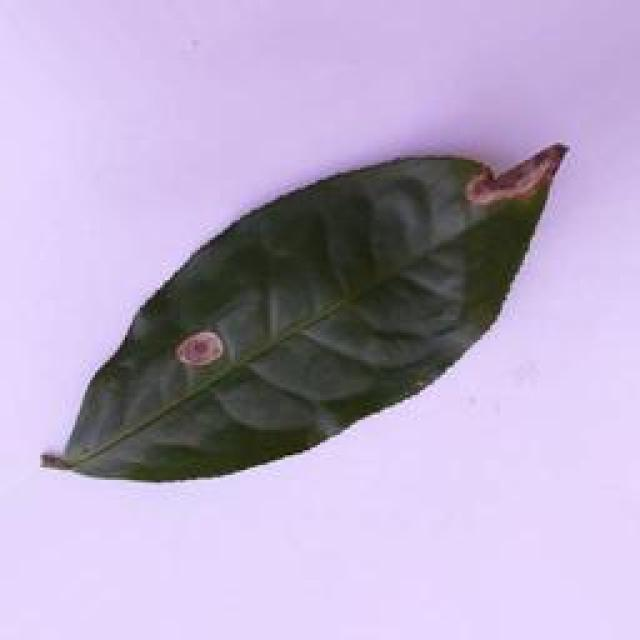Gray Blight: (33, 140, 575, 488)
